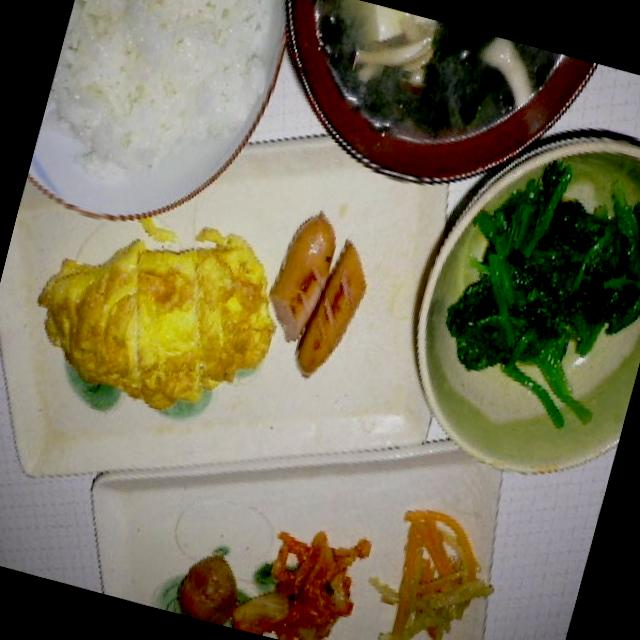Rice: (32, 0, 288, 215)
